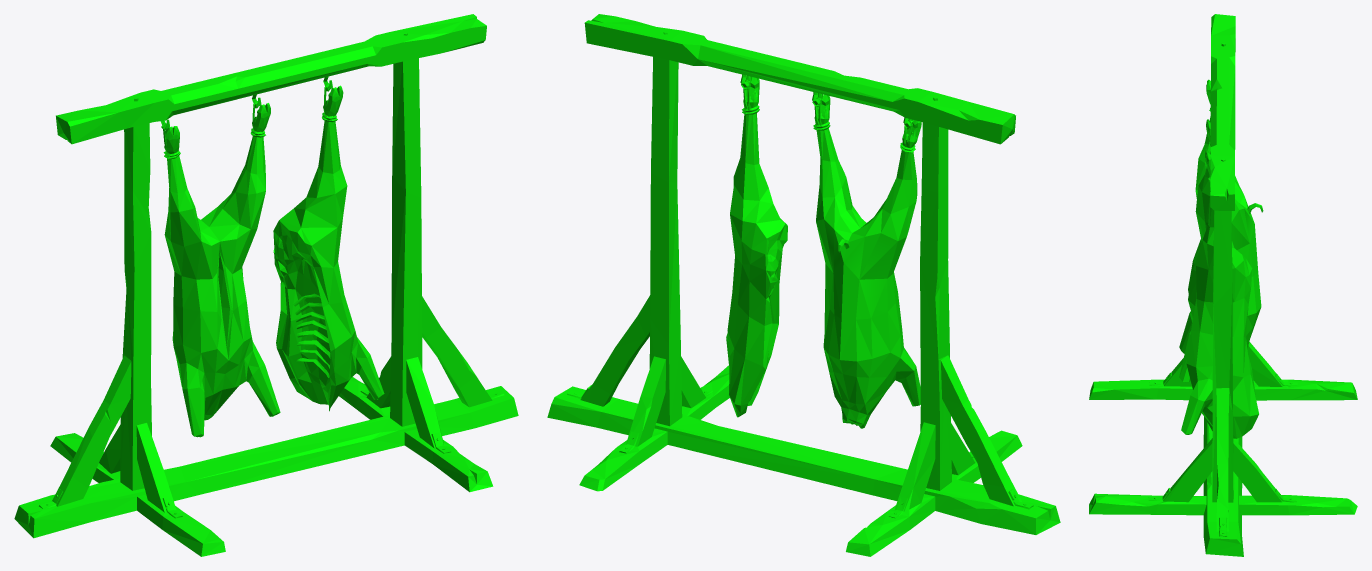
File: SM_Rack_Pig_Torso_Fantasy.fbx
The picture shows the model from 3 angles, left to right: view 1: azimuth 30°, elevation 25°; view 2: azimuth 150°, elevation 25°; view 3: azimuth 270°, elevation 25°; orthographic projection. The views are drawn at different scales.
Visible parts, largest first — view 1: rack-pig-torso-fantasy; view 2: rack-pig-torso-fantasy; view 3: rack-pig-torso-fantasy.
Boxes of the visible parts, x1,y1,x2,y2 form: rack-pig-torso-fantasy: (14, 14, 518, 556); rack-pig-torso-fantasy: (547, 14, 1060, 556); rack-pig-torso-fantasy: (1089, 14, 1357, 556).
Bounding box in the file's own units: 2.94 × 2.32 × 1.59.
